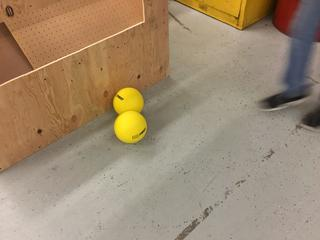power_cell: (113, 108, 151, 147), (110, 83, 150, 114)
